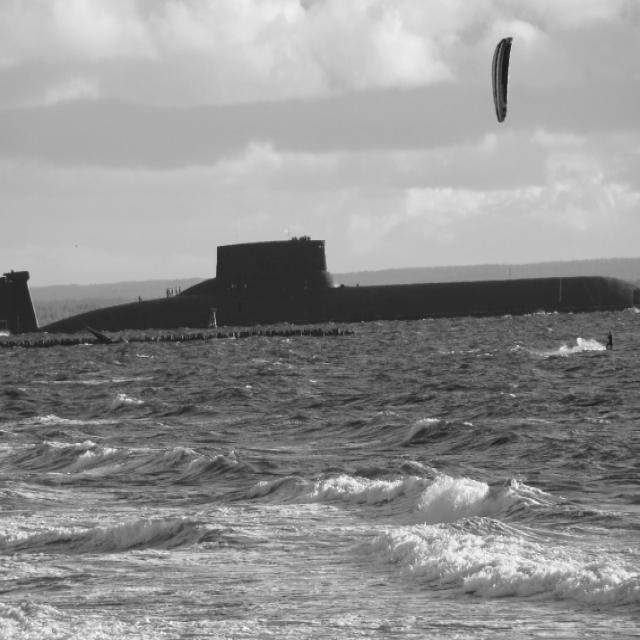submarine: (1, 230, 640, 314)
